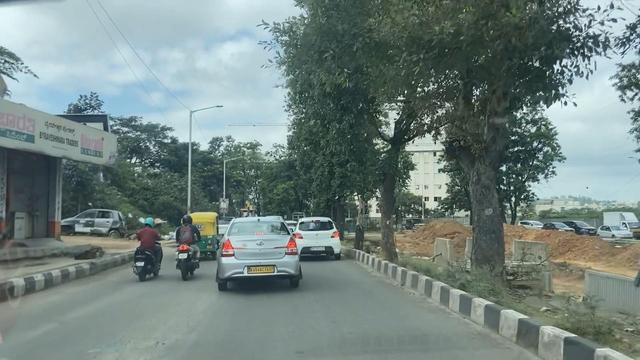LMV: (221, 221, 295, 286), (301, 219, 338, 260), (138, 221, 162, 278), (177, 216, 200, 275)
